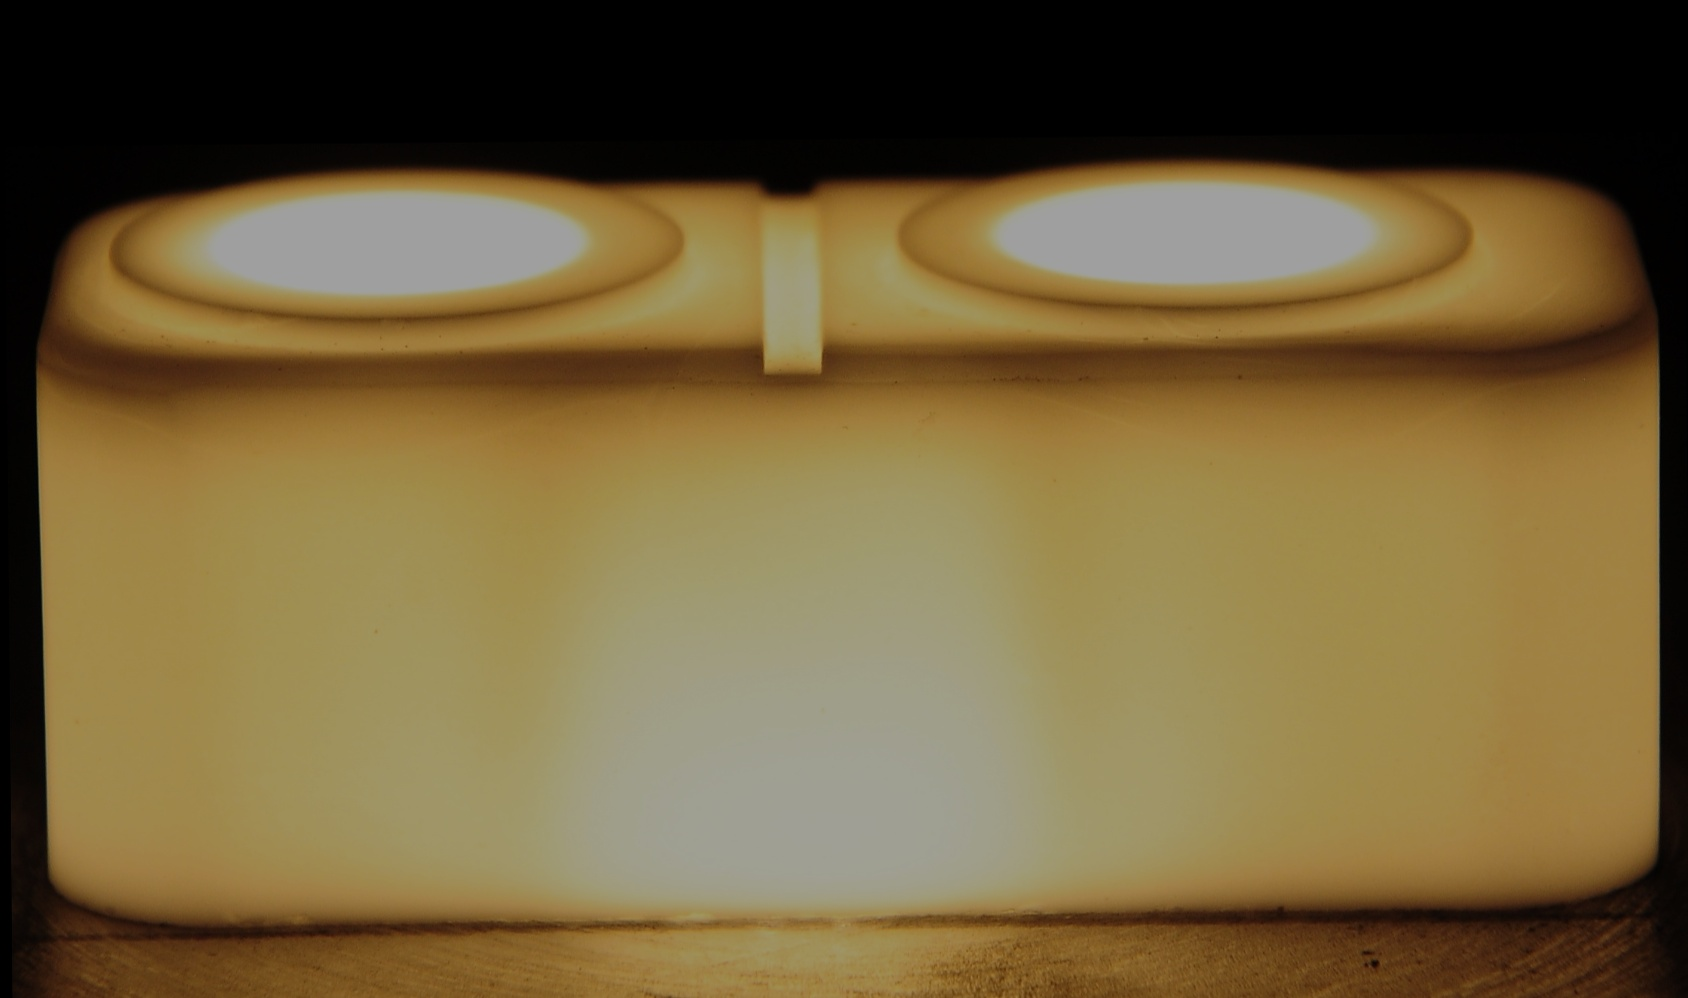flaw: (34, 384, 636, 479), (985, 372, 1516, 457)
